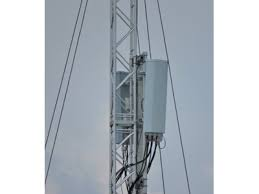sa: (140, 55, 169, 148)
